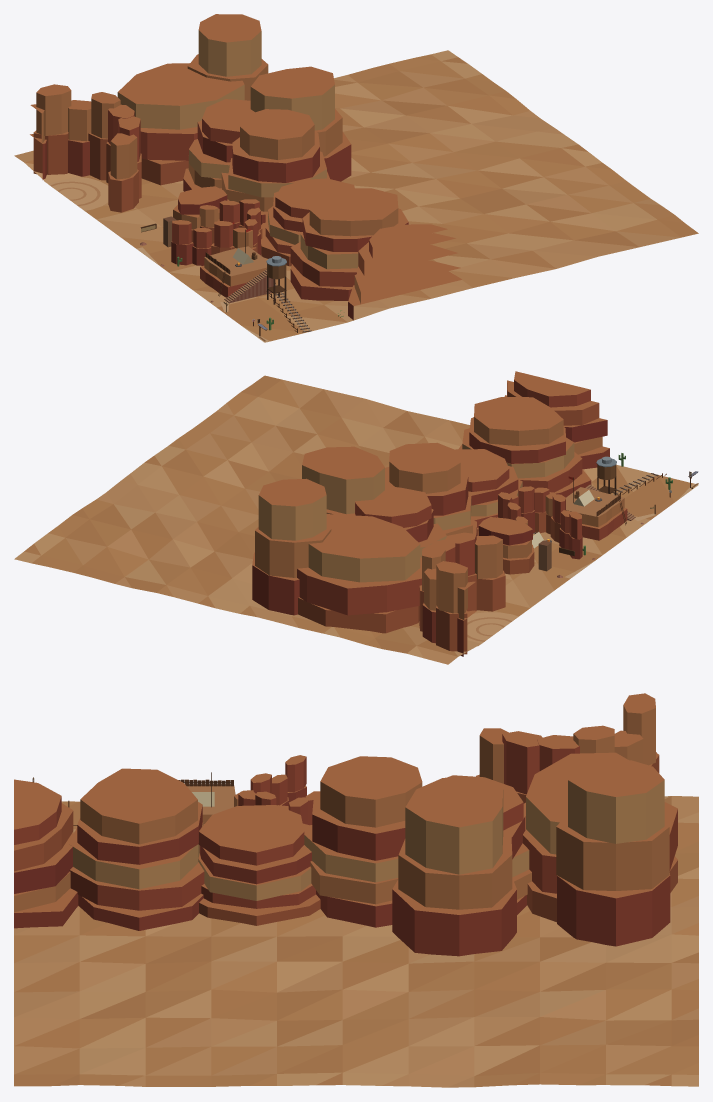
3 renders of one model, top to bottom at view 1: azimuth 30°, elevation 25°; view 2: azimuth 150°, elevation 25°; view 3: azimuth 270°, elevation 25°, orthographic. The views are drawn at different scales.
Parts seen in each view (by area): view 1: baked; view 2: baked; view 3: baked.
Boxes of the visible parts, x1,y1,x2,y2 form: baked: (14, 14, 698, 342); baked: (14, 371, 698, 664); baked: (14, 693, 698, 1087).
Size of the model in its own units: 125 by 29.77 by 125.
